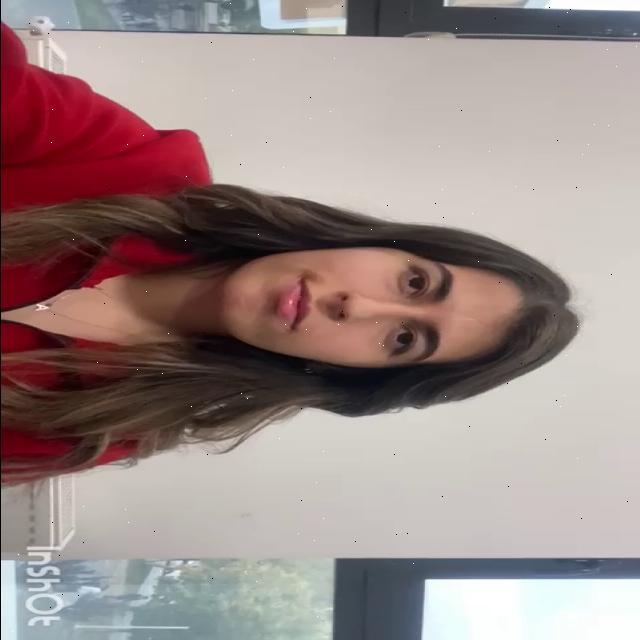natural: (225, 244, 524, 380)
